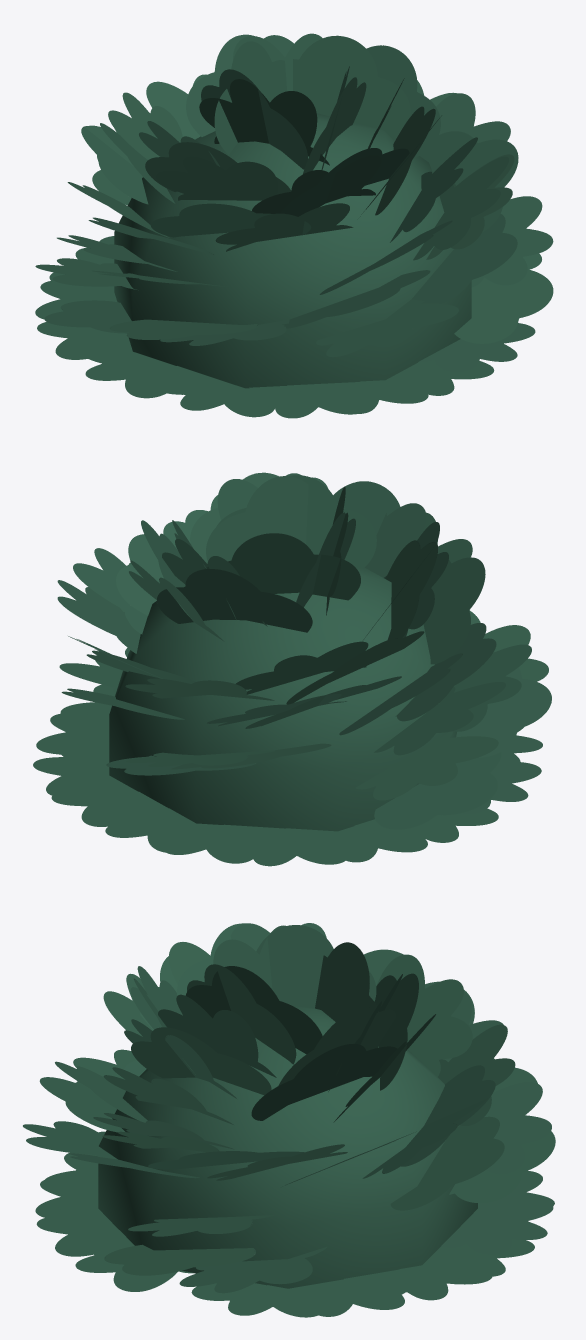
The model's file is FBX_Bush_1.fbx.
The picture shows the model from 3 angles, top to bottom: view 1: azimuth 30°, elevation 25°; view 2: azimuth 150°, elevation 25°; view 3: azimuth 270°, elevation 25°; orthographic projection. The views are drawn at different scales.
Parts seen in each view (by area): view 1: Bush; view 2: Bush; view 3: Bush.
Boxes of the visible parts, bbox=[...] form: Bush: bbox=[35, 33, 553, 418]; Bush: bbox=[33, 472, 551, 866]; Bush: bbox=[23, 923, 555, 1317].
Size of the model in its own units: 149 by 147 by 77.07.
